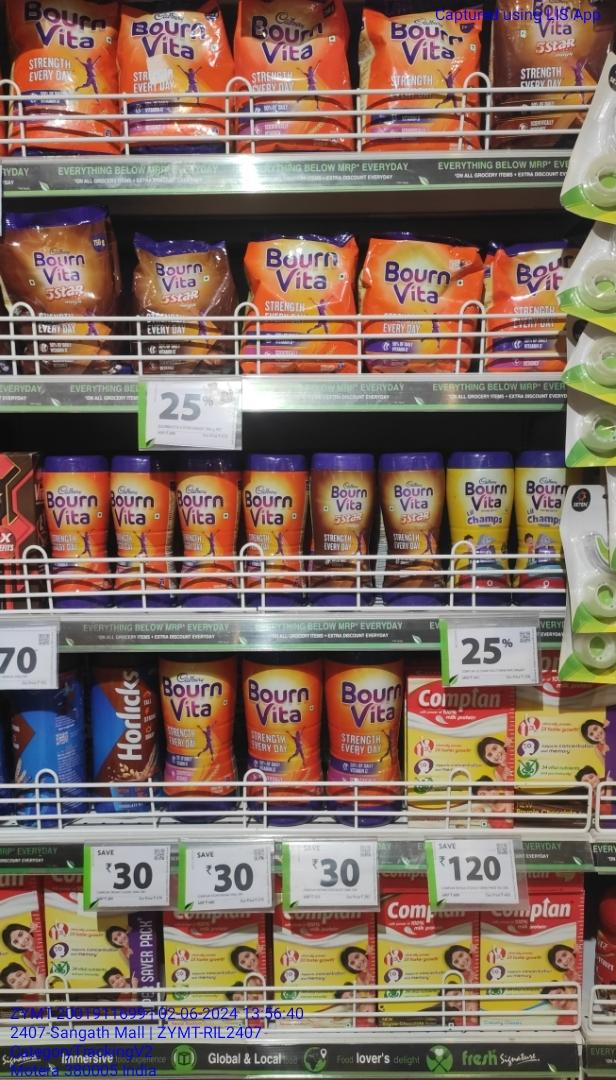BOURN_VITA_CHAMPS_500_G_JAR: (452, 451, 513, 594), (517, 456, 564, 598)
